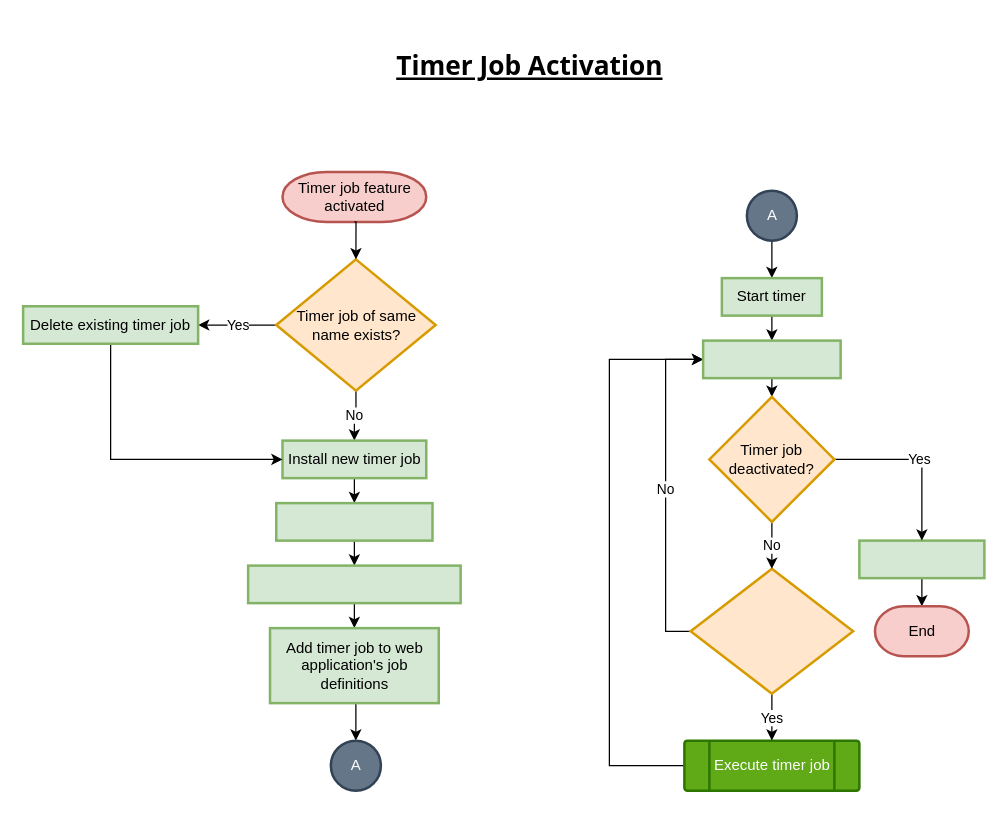
This 1006x813 diagram has some shape labels left out. Each missing label, with the box of its shape:
Create timer schedule: (274, 501, 433, 541)
Delete timer job: (858, 539, 985, 579)
Timer increments: (701, 339, 841, 379)
Timer reached scheduled time?: (689, 567, 854, 694)
Update timer job with schedule: (246, 564, 461, 604)
